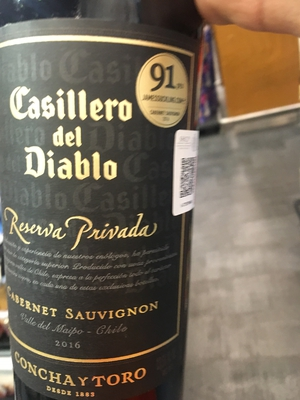casillero del diablo reserva privada cabernet sauvignon: (4, 12, 211, 400)
